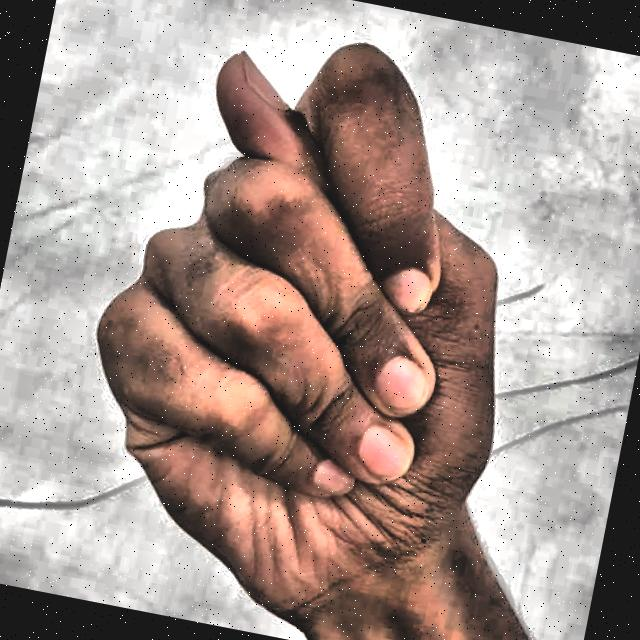Ta: (20, 0, 638, 640)
